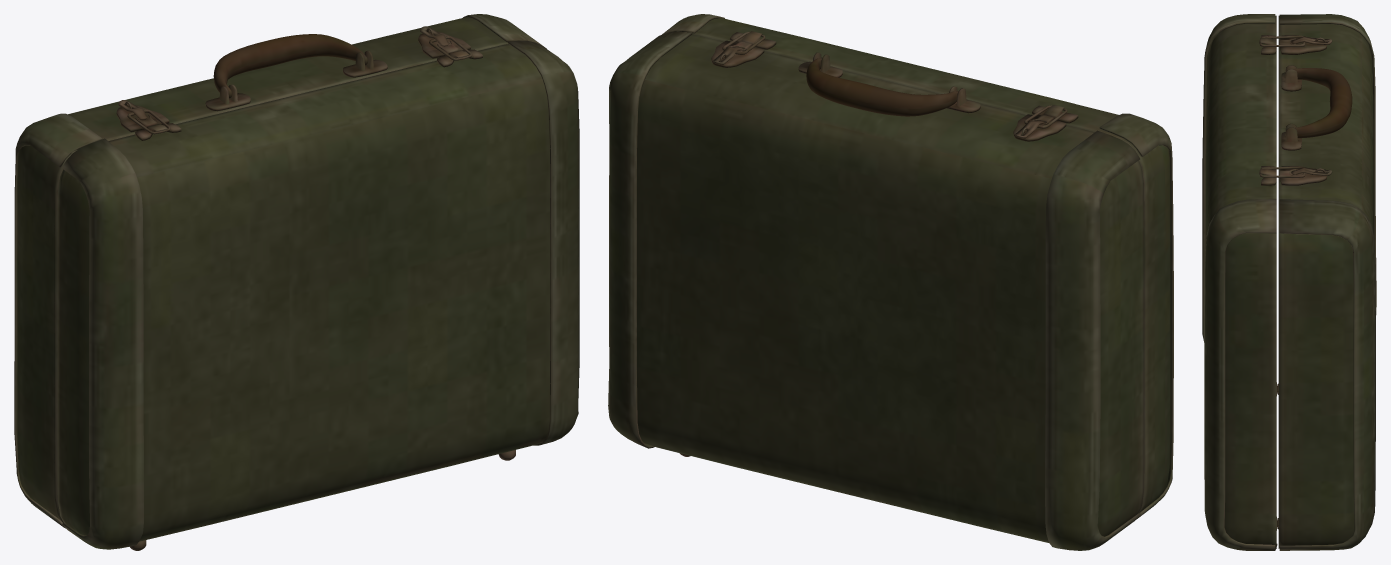
The model's file is vintage_suitcase_web.glb.
3 views of the same model, side by side, from view 1: azimuth 30°, elevation 25°; view 2: azimuth 150°, elevation 25°; view 3: azimuth 270°, elevation 25° (orthographic). The views are drawn at different scales.
Parts seen in each view (by area): view 1: SuitcaseLid, SuitcaseBody, SuitcaseHandle; view 2: SuitcaseBody, SuitcaseLid, SuitcaseHandle; view 3: SuitcaseBody, SuitcaseLid, SuitcaseHandle, SuitcaseClasps.
Boxes of the visible parts, x1,y1,x2,y2 form: SuitcaseLid: (57,40,579,550); SuitcaseBody: (14,14,546,528); SuitcaseHandle: (213,34,367,98); SuitcaseBody: (608,32,1144,550); SuitcaseLid: (662,14,1173,519); SuitcaseHandle: (806,57,958,116); SuitcaseBody: (1277,14,1376,550); SuitcaseLid: (1202,14,1278,550); SuitcaseHandle: (1294,68,1352,138); SuitcaseClasps: (1259,35,1305,177).
Size of the model in its own units: 0.8 by 0.6549 by 0.2758.
1 material, 1 textured.
